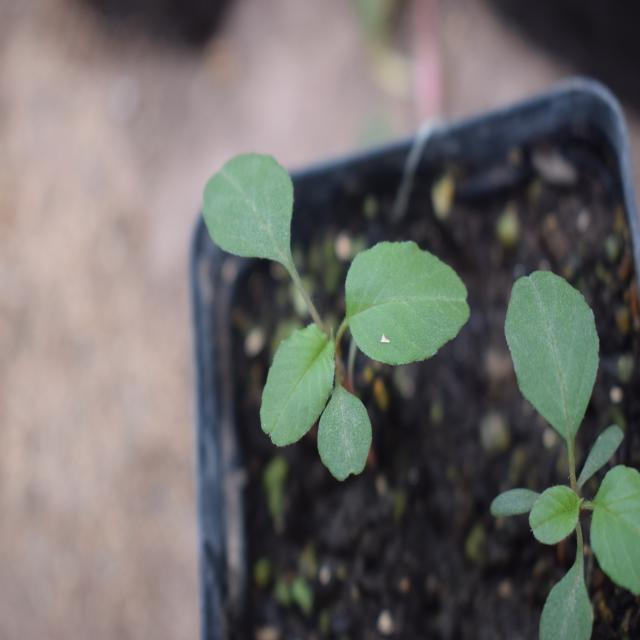pigweed: (190, 137, 460, 484), (490, 252, 638, 628)
